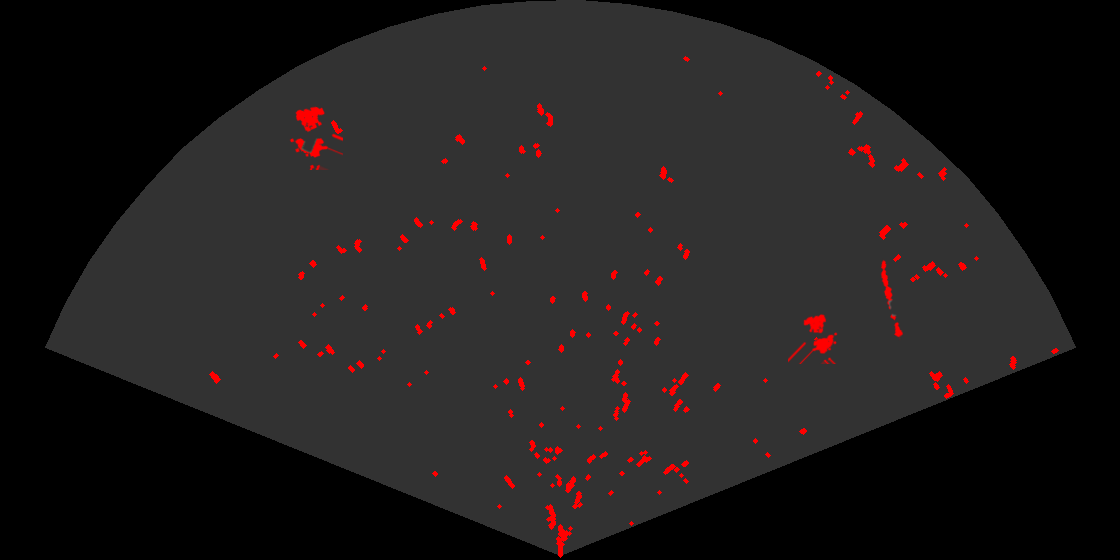cage: (288, 105, 343, 170), (788, 312, 839, 364)
chain: (879, 258, 905, 341)
